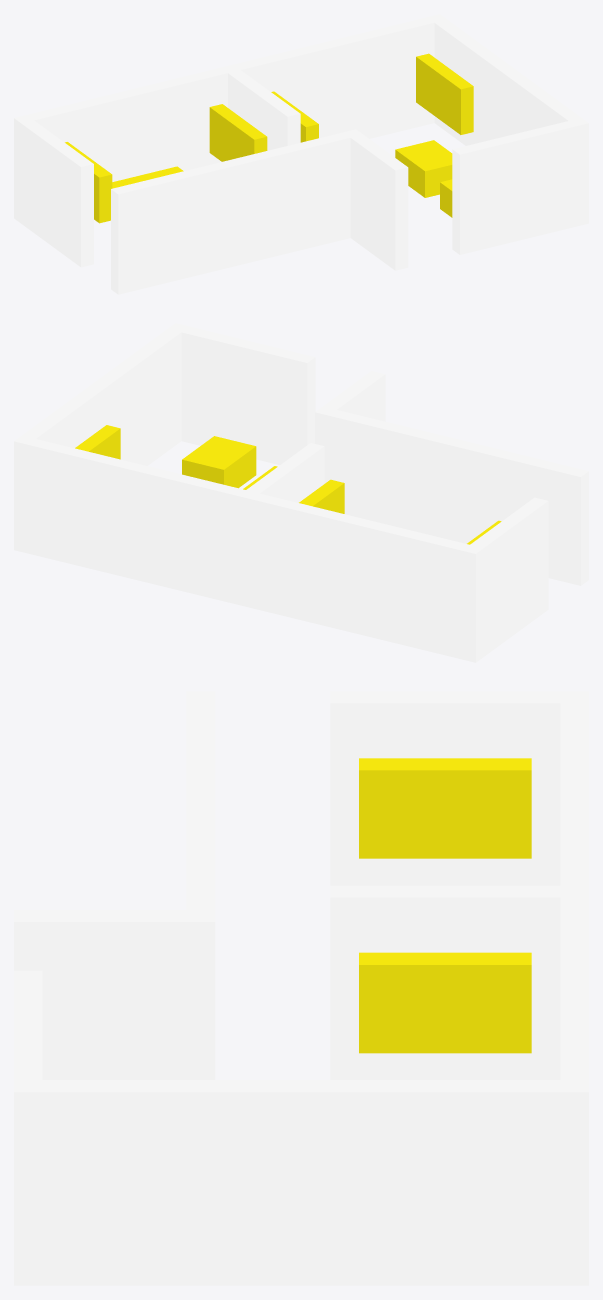
The model's file is agc.glb.
3 views of the same model, one above another, from view 1: azimuth 30°, elevation 25°; view 2: azimuth 150°, elevation 25°; view 3: azimuth 270°, elevation 25° (orthographic). The views are drawn at different scales.
Visible parts, largest first — view 1: largewall, smallwall, highgrass, wisteria, piazza, forestami, falck, goccia; view 2: largewall, smallwall, goccia, highgrass, wisteria; view 3: largewall, smallwall, highgrass, forestami.
Part boxes in pixels (<box>): largewall: <box>14,14,588,267</box>; smallwall: <box>111,129,408,294</box>; highgrass: <box>271,53,473,142</box>; wisteria: <box>209,104,267,161</box>; piazza: <box>395,140,452,197</box>; forestami: <box>65,142,112,223</box>; falck: <box>112,166,183,188</box>; goccia: <box>440,179,452,217</box>; largewall: <box>14,323,548,662</box>; smallwall: <box>315,371,588,585</box>; goccia: <box>182,436,256,488</box>; highgrass: <box>75,425,277,489</box>; wisteria: <box>299,479,344,513</box>; largewall: <box>14,691,588,1285</box>; smallwall: <box>14,691,215,1079</box>; highgrass: <box>359,952,531,1053</box>; forestami: <box>359,758,531,858</box>.
Size of the model in its own units: 1 by 0.2261 by 0.6059.
